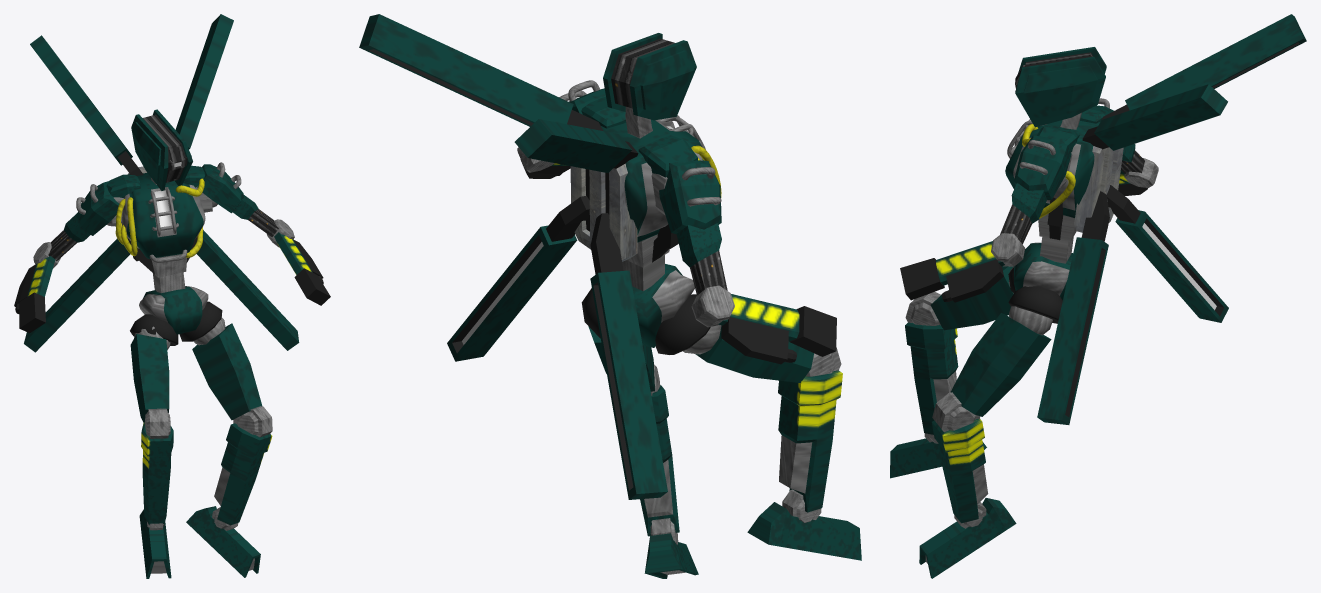
The model's file is Robot 7 pose.fbx.
3 views of the same model, side by side, from view 1: azimuth 30°, elevation 25°; view 2: azimuth 150°, elevation 25°; view 3: azimuth 270°, elevation 25° (orthographic). The views are drawn at different scales.
Parts seen in each view (by area): view 1: Cube.019, Cylinder.005, Icosphere.009, Cube.021, Cube.005, Cylinder.002, Cube.026, Cube.027, Icosphere, Cube.024, Cube.028, Icosphere.004 (+8 smaller); view 2: Cube.027, Cube.019, Cube.024, Cylinder.002, Cube.026, Cube.005, Icosphere.004, Cylinder, Cube.021, Cube.015, Cube.028, Icosphere (+6 smaller); view 3: Cube.026, Icosphere.009, Cube.019, Cube.005, Cube.028, Cylinder.005, Cube.027, Cylinder.002, Cube.024, Icosphere.002, Cylinder.006, Cube.008 (+7 smaller).
Part boxes in pixels (box(x1,y1,x2,y2)): Cube.019: box(106, 165, 212, 262); Cylinder.005: box(214, 406, 272, 525); Icosphere.009: box(192, 317, 262, 420); Cube.021: box(130, 286, 222, 345); Cube.005: box(131, 109, 192, 190); Cylinder.002: box(141, 408, 173, 524); Cube.026: box(196, 230, 299, 350); Cube.027: box(24, 237, 130, 352); Icosphere: box(130, 326, 170, 422); Cube.024: box(175, 14, 233, 149); Cube.028: box(30, 35, 143, 175); Icosphere.004: box(48, 181, 119, 260); Cube.027: box(590, 213, 667, 499); Cube.019: box(570, 96, 721, 261); Cube.024: box(359, 14, 602, 130); Cylinder.002: box(778, 347, 842, 512); Cube.026: box(447, 195, 589, 361); Cube.005: box(603, 33, 696, 120); Icosphere.004: box(659, 160, 727, 295); Cylinder: box(691, 285, 799, 364); Cube.021: box(581, 264, 710, 354); Cube.015: box(747, 489, 861, 560); Cube.028: box(514, 119, 638, 172); Icosphere: box(683, 325, 813, 382); Cube.026: box(1037, 191, 1109, 424); Icosphere.009: box(950, 306, 1052, 416); Cube.019: box(1005, 106, 1123, 232); Cube.005: box(1015, 47, 1106, 127); Cube.028: box(1102, 14, 1306, 119); Cylinder.005: box(931, 392, 988, 523); Cube.027: box(1106, 185, 1228, 322); Cylinder.002: box(905, 291, 958, 434); Cube.024: box(1082, 84, 1227, 150); Icosphere.002: box(1000, 135, 1071, 244); Cylinder.006: box(936, 233, 1025, 302); Cube.008: box(919, 498, 1016, 578).
Size of the model in its own units: 861 by 1369 by 957.
